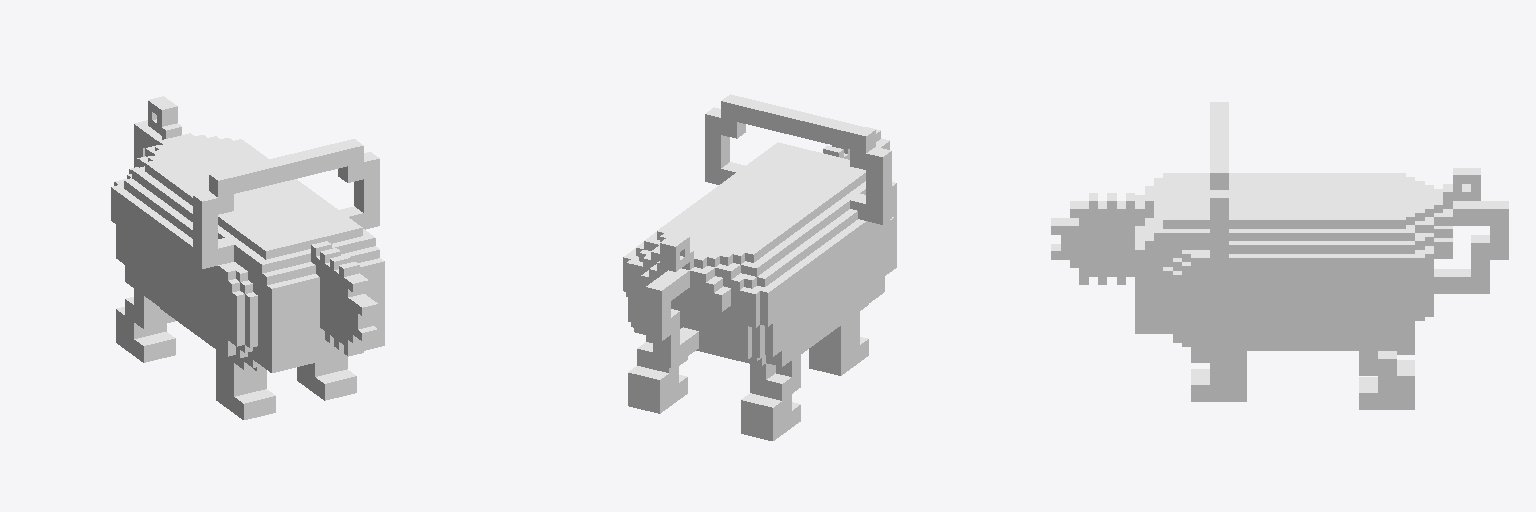
The model's file is pochita.obj.
3 renders of one model, left to right at view 1: azimuth 30°, elevation 25°; view 2: azimuth 150°, elevation 25°; view 3: azimuth 270°, elevation 25°, orthographic.
Parts seen in each view (by area): view 1: pochita.001; view 2: pochita.001; view 3: pochita.001.
Part boxes in pixels (left/top/right/bottom): pochita.001: left=111, top=96, right=384, bottom=419; pochita.001: left=623, top=94, right=896, bottom=440; pochita.001: left=1051, top=102, right=1508, bottom=409.
Size of the model in its own units: 2.2 by 2.8 by 4.9.